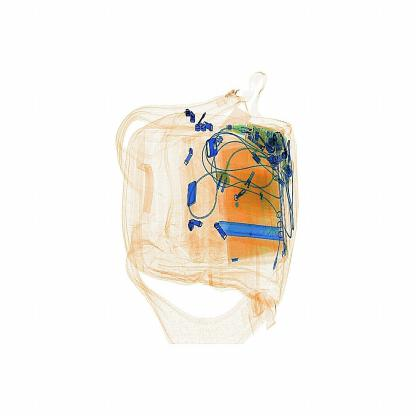pliers: (214, 220, 289, 247)
